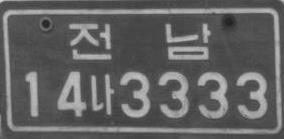1: (20, 70, 46, 117)
3: (235, 70, 268, 121), (196, 70, 228, 120), (158, 70, 189, 120), (119, 70, 151, 118)
4: (56, 70, 87, 117)
나: (89, 73, 114, 115)
전남_D: (68, 22, 211, 60)
